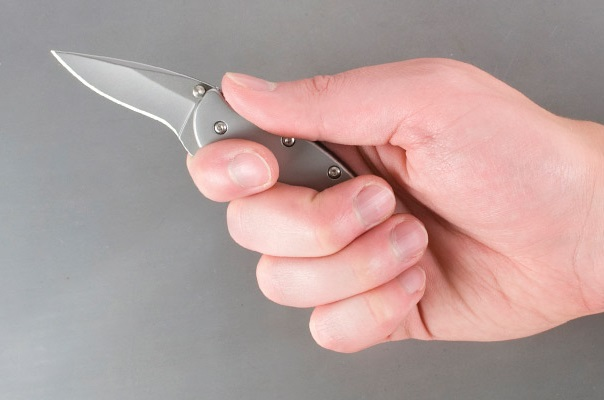knife: (44, 42, 404, 265)
